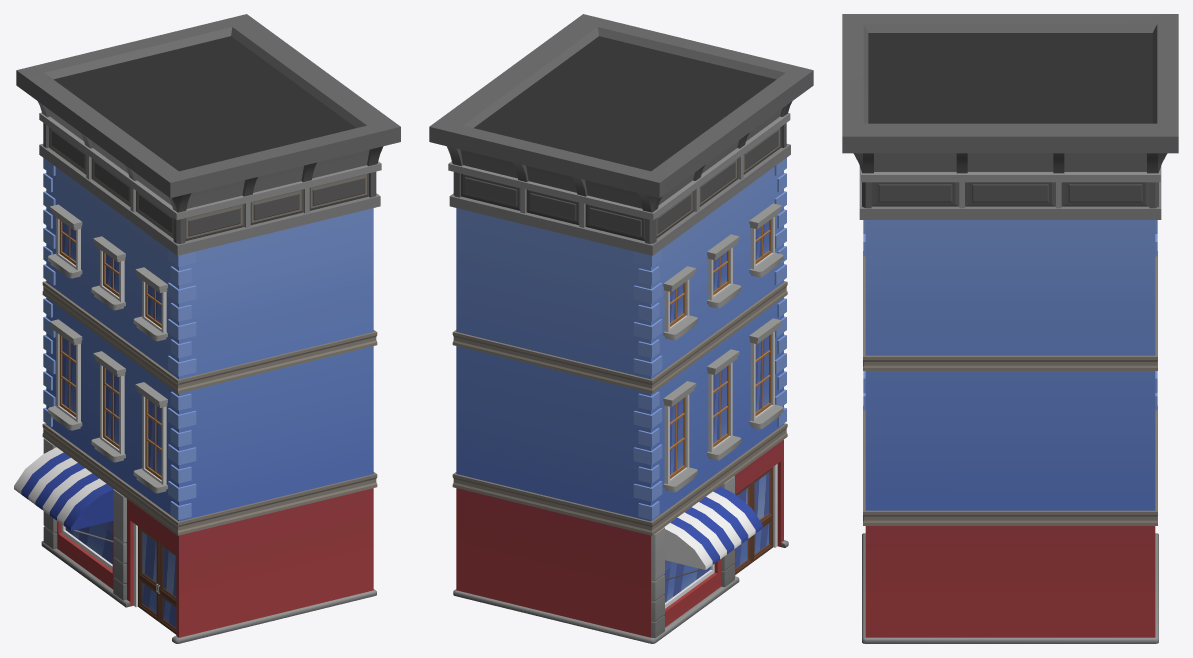
The model's file is Building_8_2_O.fbx.
The picture shows the model from 3 angles, left to right: view 1: azimuth 30°, elevation 25°; view 2: azimuth 150°, elevation 25°; view 3: azimuth 270°, elevation 25°; orthographic projection. The views are drawn at different scales.
Visible parts, largest first — view 1: Building 8_2_O; view 2: Building 8_2_O; view 3: Building 8_2_O.
Boxes of the visible parts, bbox=[...] form: Building 8_2_O: bbox=[14, 14, 400, 643]; Building 8_2_O: bbox=[429, 14, 813, 643]; Building 8_2_O: bbox=[842, 14, 1178, 643].
Size of the model in its own units: 720 by 1276 by 755.
